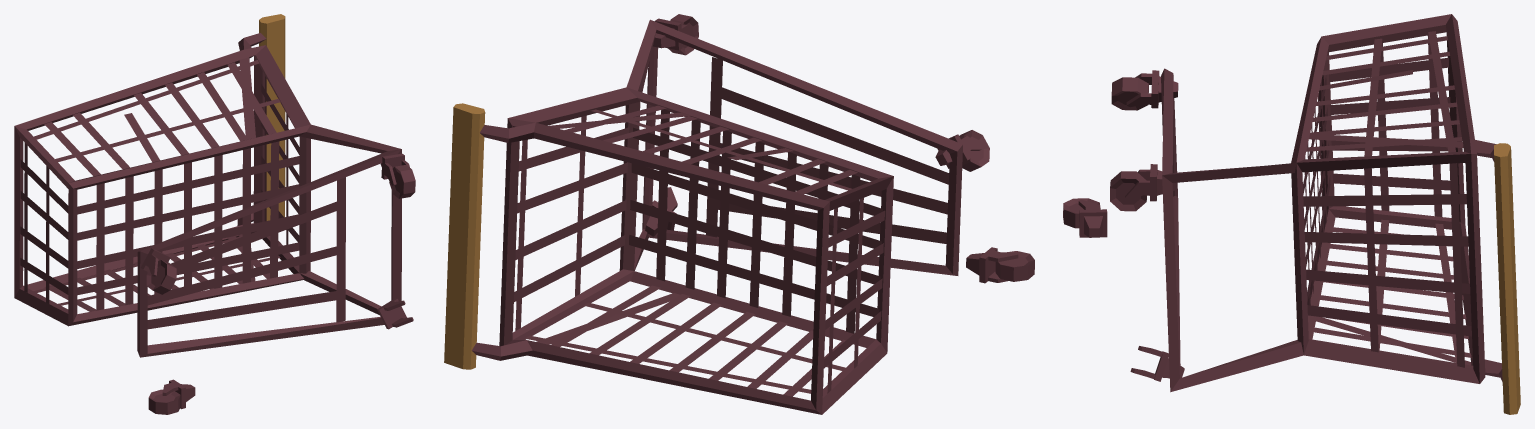
File: shopping-trolley-destroyed.fbx
The picture shows the model from 3 angles, left to right: view 1: azimuth 30°, elevation 25°; view 2: azimuth 150°, elevation 25°; view 3: azimuth 270°, elevation 25°; orthographic projection. The views are drawn at different scales.
Visible parts, largest first — view 1: shopping-trolley-destroyed; view 2: shopping-trolley-destroyed; view 3: shopping-trolley-destroyed.
Part boxes in pixels (<box>): shopping-trolley-destroyed: <box>14,14,415,414</box>; shopping-trolley-destroyed: <box>444,14,1034,414</box>; shopping-trolley-destroyed: <box>1063,14,1520,414</box>.
Size of the model in its own units: 1.19 by 0.7763 by 1.26.
